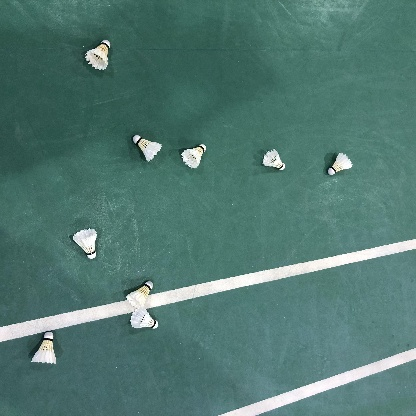ball_single: (31, 332, 56, 364), (133, 135, 162, 162), (126, 281, 153, 310), (85, 40, 110, 70), (73, 228, 97, 259), (181, 144, 206, 169), (130, 308, 158, 329), (328, 152, 353, 175), (263, 149, 285, 170)
